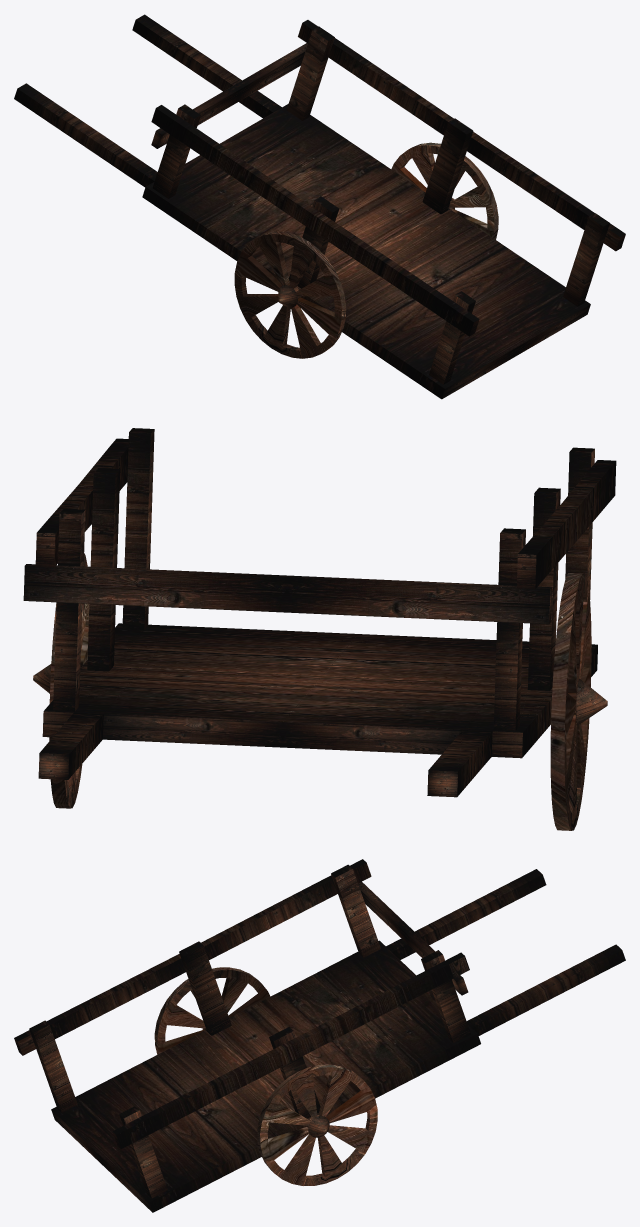
Rendered from uploads_files_2060573_HayCart.obj.
3 renders of one model, top to bottom at view 1: azimuth 30°, elevation 25°; view 2: azimuth 150°, elevation 25°; view 3: azimuth 270°, elevation 25°, orthographic. The views are drawn at different scales.
Visible parts, largest first — view 1: HayCart_Cylinder.003; view 2: HayCart_Cylinder.003; view 3: HayCart_Cylinder.003.
Boxes of the visible parts, x1,y1,x2,y2 form: HayCart_Cylinder.003: (14,14,625,399); HayCart_Cylinder.003: (23,428,616,830); HayCart_Cylinder.003: (14,859,625,1212).
Bounding box in the file's own units: 6.27 × 3.17 × 8.7.
